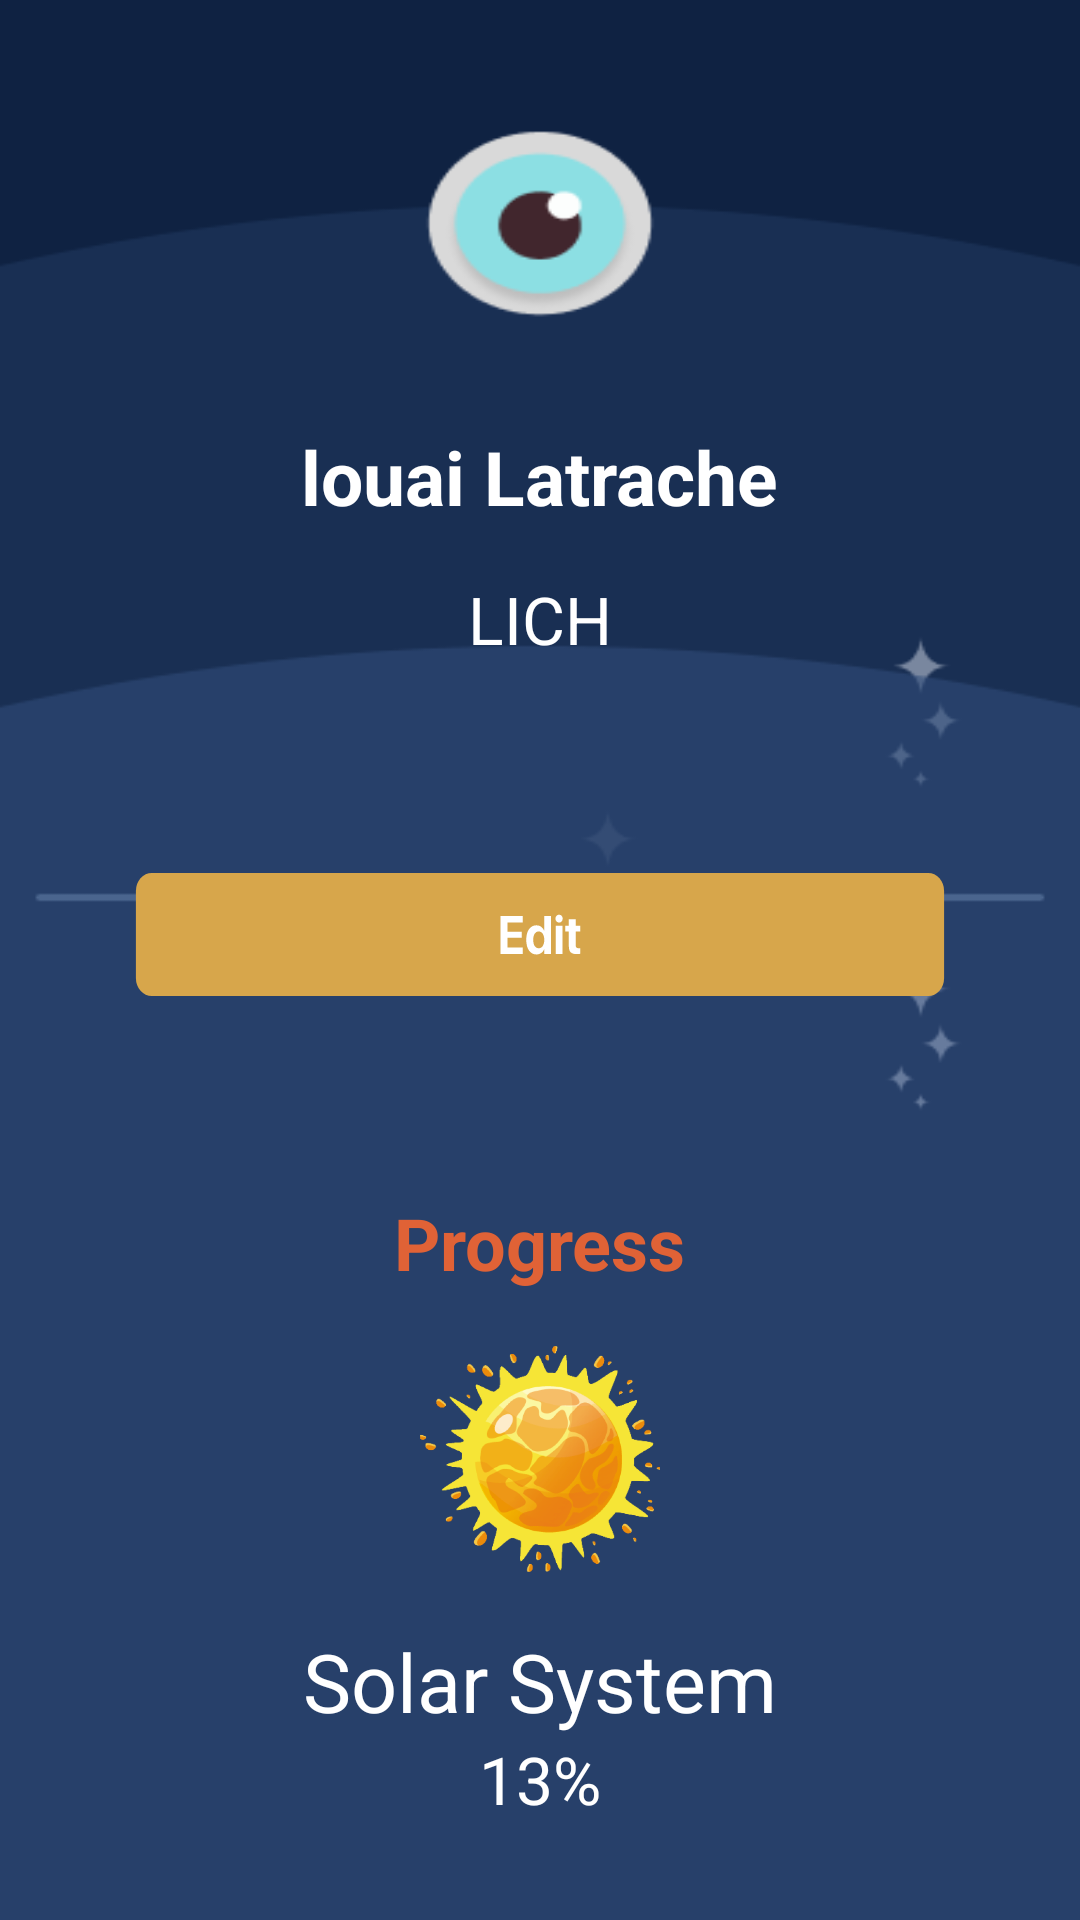

Where icons sit on this 1080x1920 app screen, as (x1, y1, x2, y2):
sun: (420, 1346, 660, 1572)
